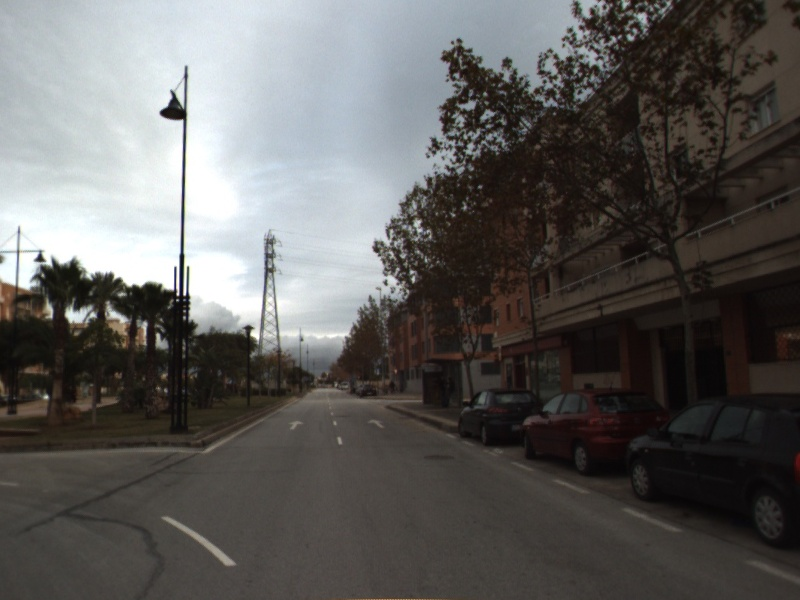STRAIGHT: (365, 417, 388, 430), (286, 418, 307, 431)
